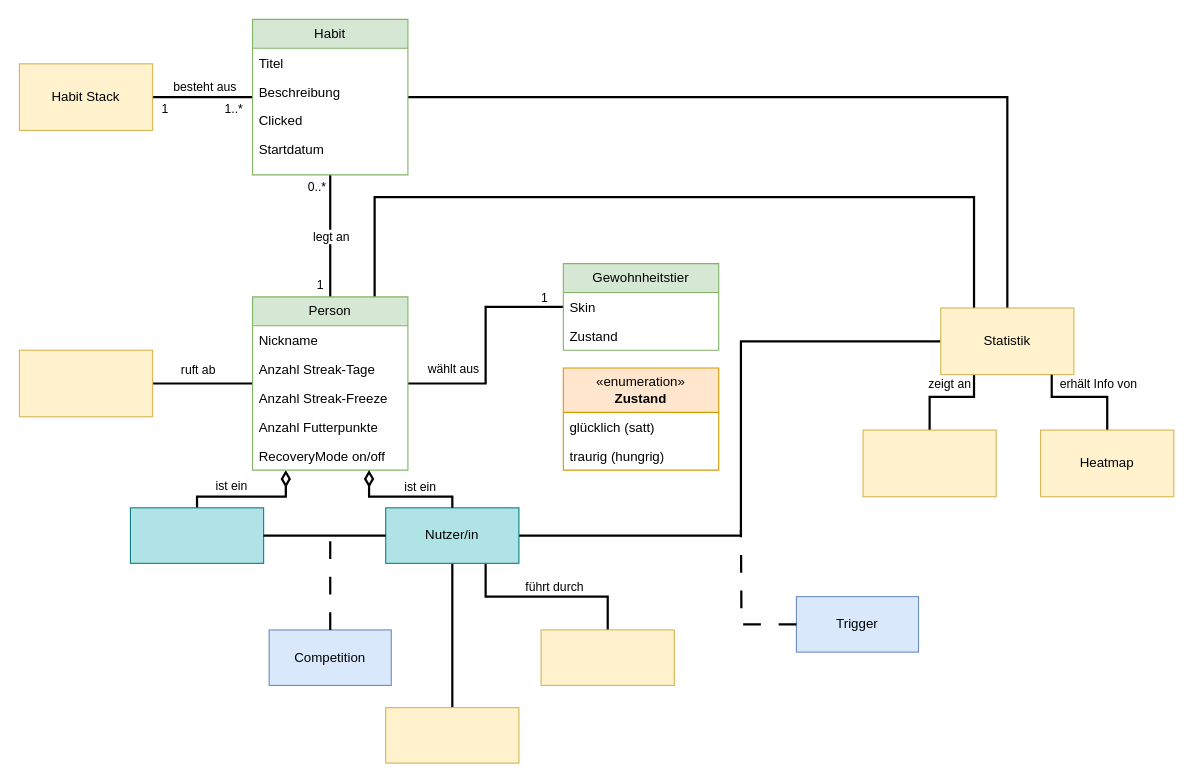
Some shapes in this 1193 by 783 pixel diagram are drawn without their labels. The centre of each missing label's shape, as x and y in pixels:
Buddy: point (196, 535)
Challenge: point (607, 657)
Dashboard: point (929, 463)
Journal/ Tagebuch: point (452, 735)
Wissenschaftsbereich: point (85, 383)
